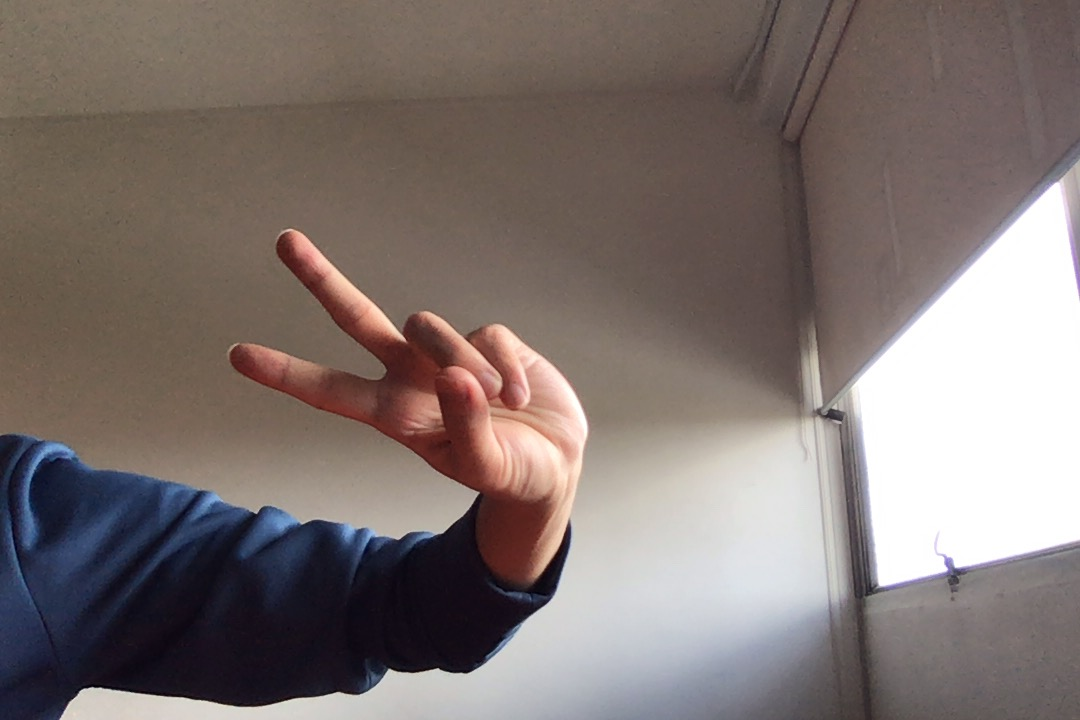peacesign: (223, 218, 601, 510)
